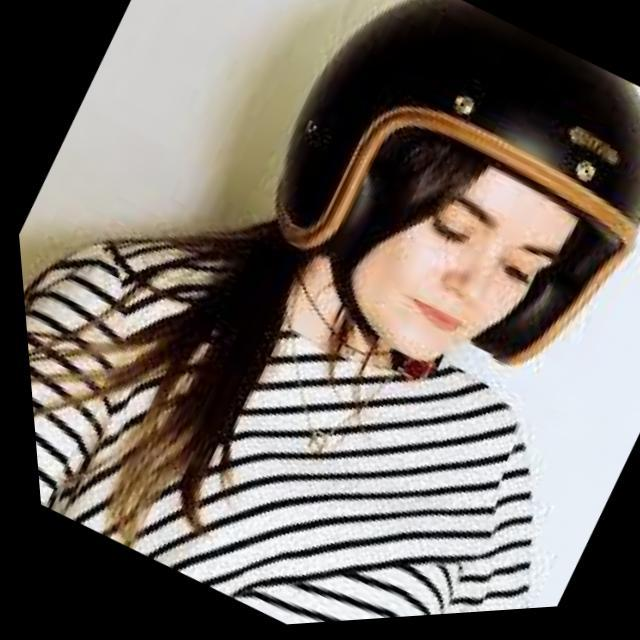Helmet: (278, 0, 640, 371)
